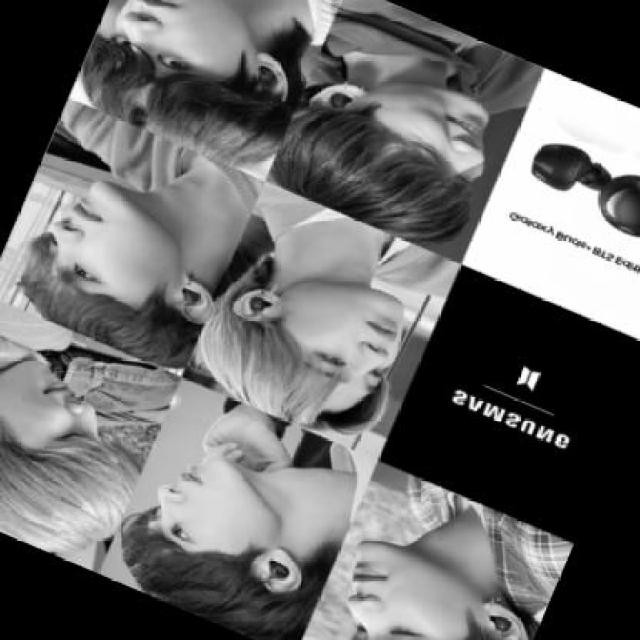earphone: (521, 145, 640, 236), (248, 58, 289, 113), (472, 598, 523, 634), (246, 287, 282, 335), (258, 561, 298, 598), (180, 267, 205, 321), (321, 90, 364, 120)
